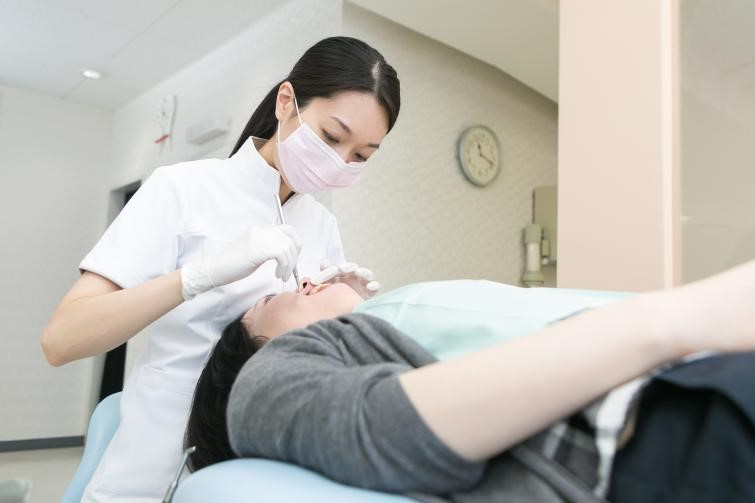mask: (276, 121, 370, 197)
